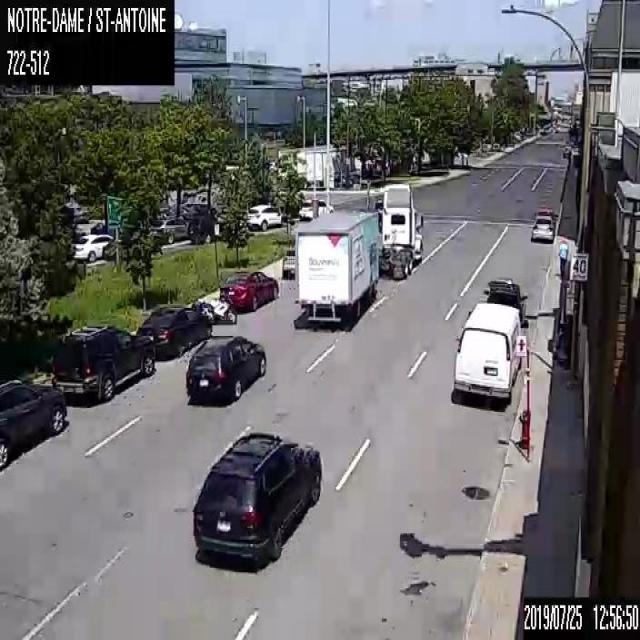vehicle: (294, 182, 424, 322), (192, 431, 322, 558), (454, 300, 528, 406), (52, 324, 154, 400), (0, 377, 66, 467), (185, 334, 265, 403), (134, 304, 211, 356), (219, 270, 278, 310), (483, 279, 527, 323), (192, 292, 236, 323), (71, 229, 113, 260), (185, 213, 222, 244), (245, 202, 283, 230), (150, 216, 188, 243), (530, 213, 555, 242), (298, 198, 334, 216), (282, 248, 295, 276), (101, 237, 116, 260), (533, 206, 558, 219)
